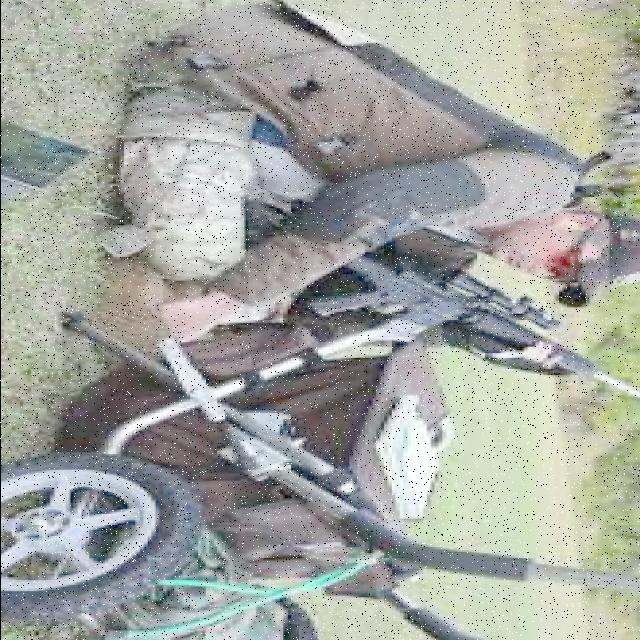Rifle: (242, 198, 640, 401)
